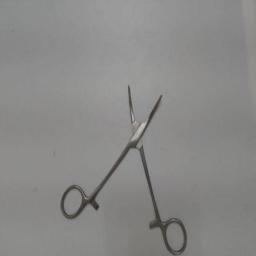Crile Artery Forceps: (57, 82, 191, 254)
